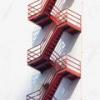stairs: (41, 27, 67, 60), (42, 73, 65, 100), (41, 0, 59, 12)
